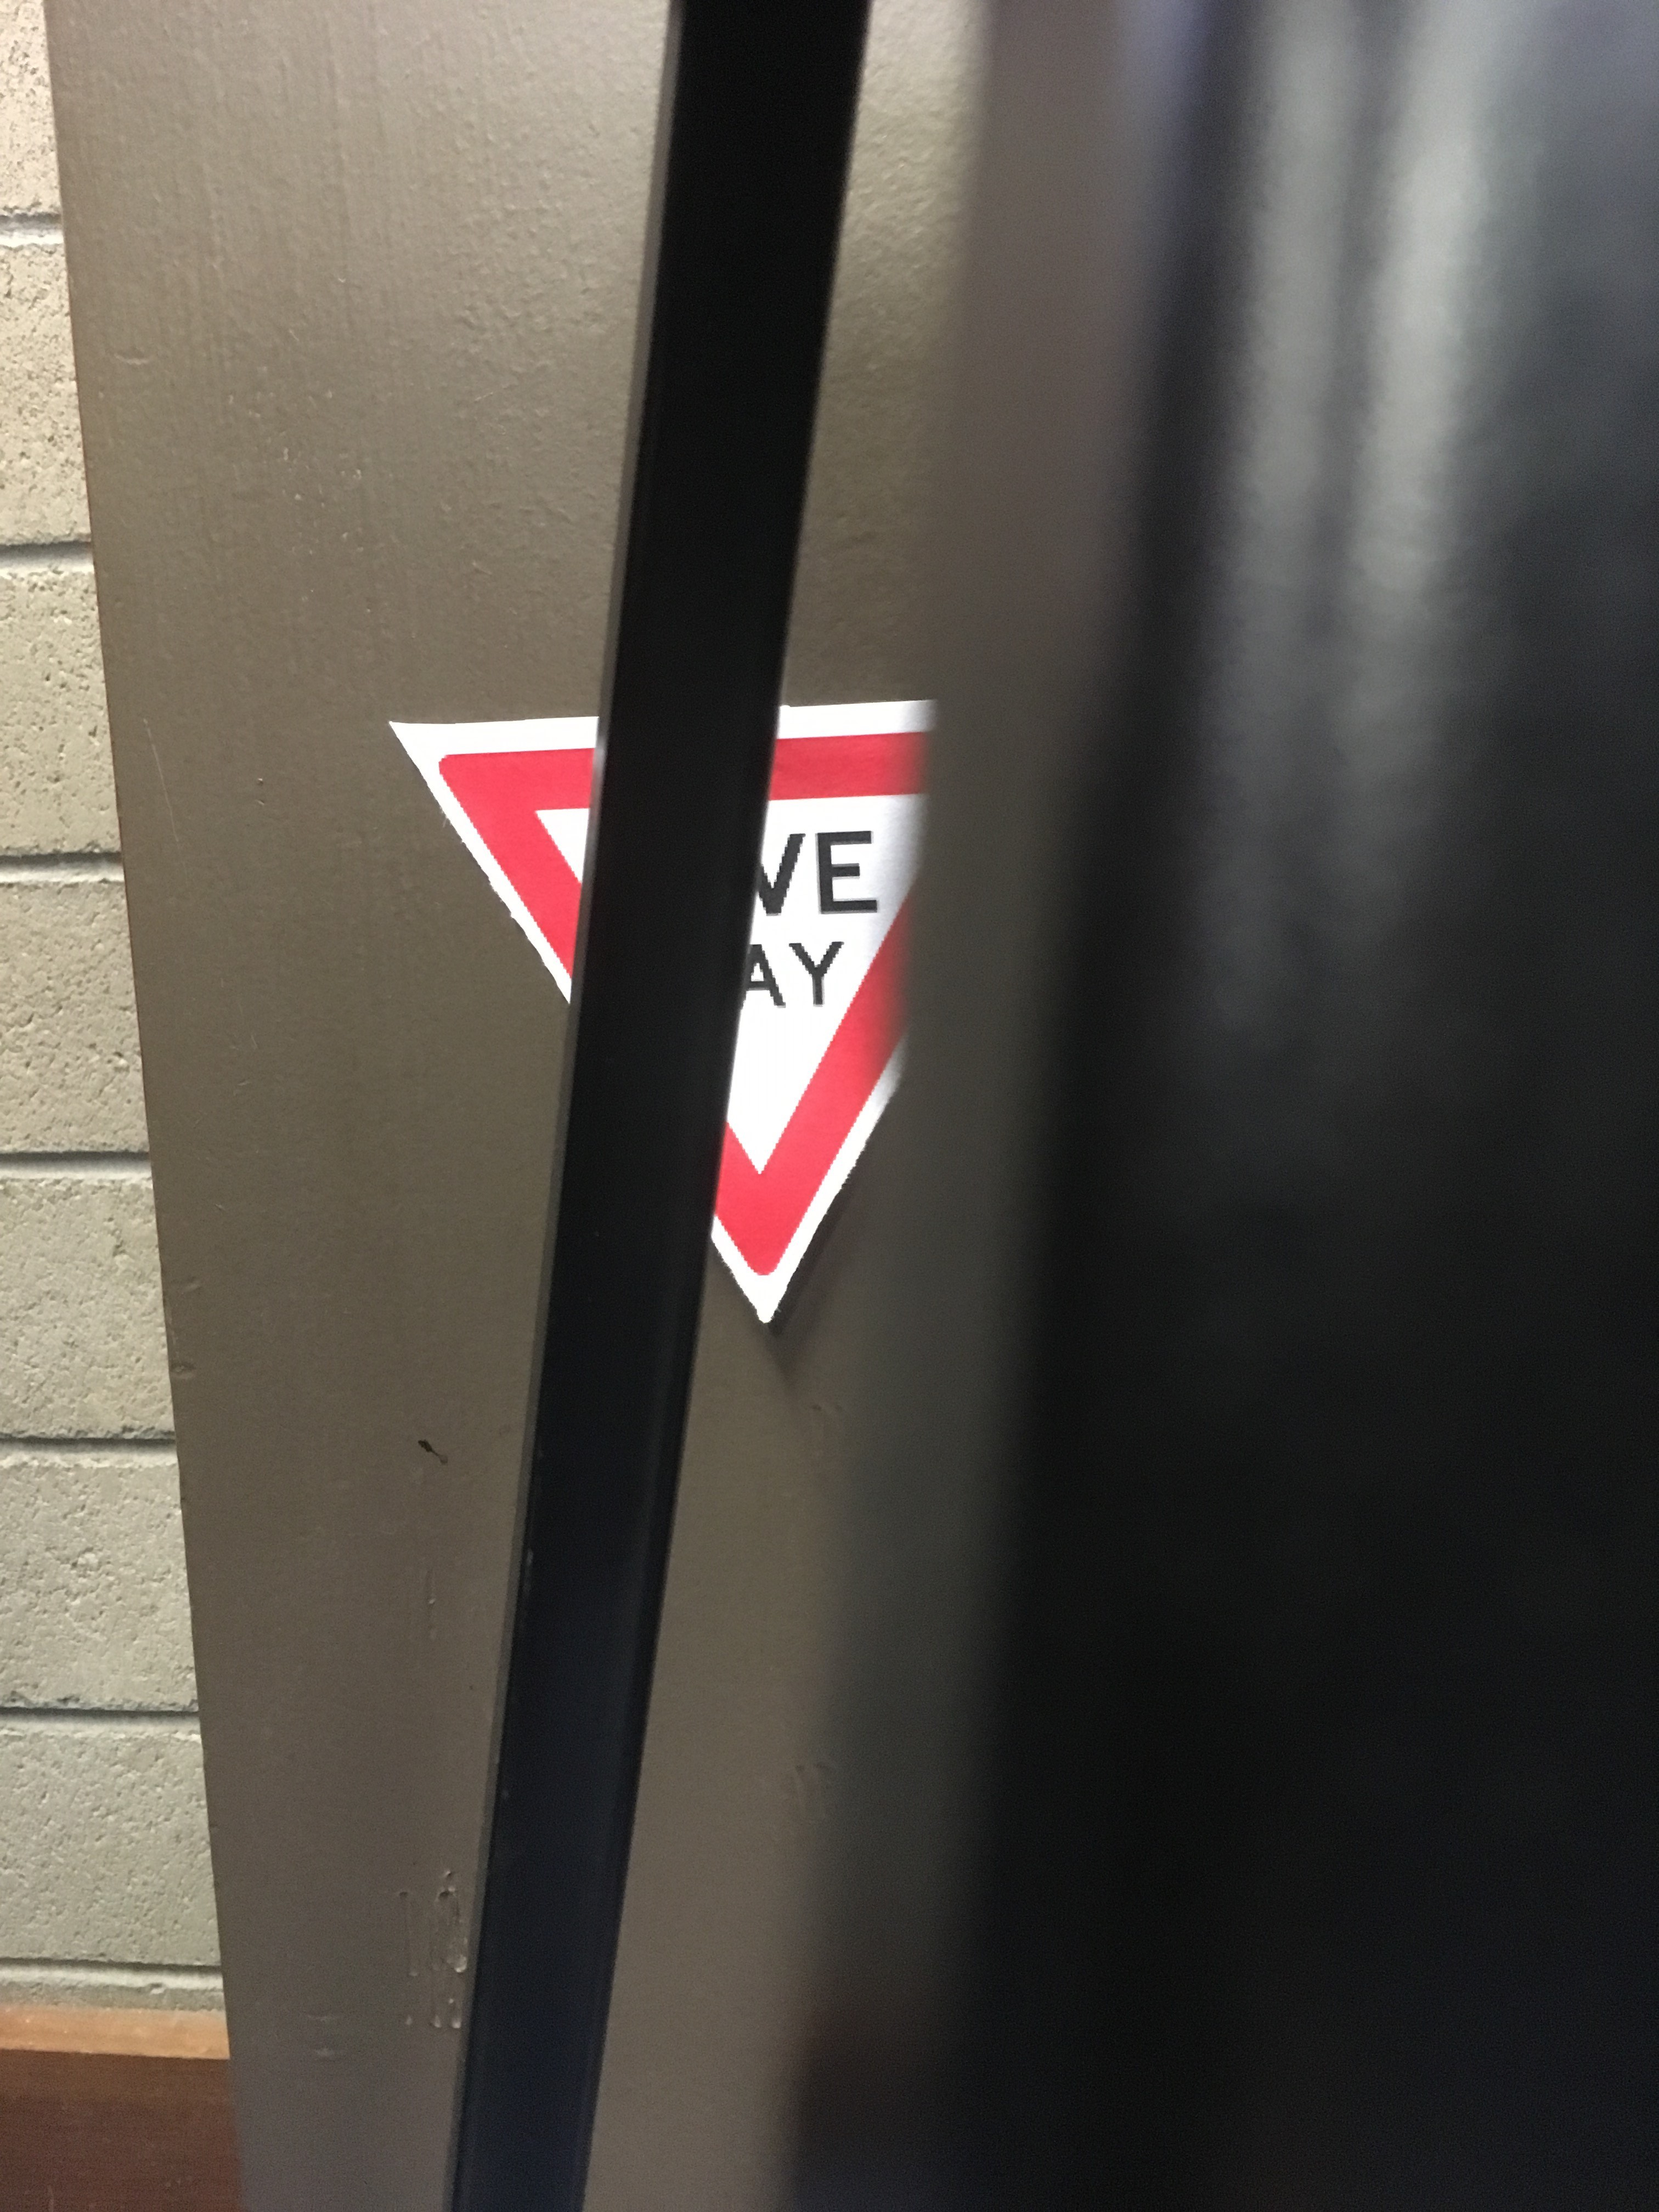giveway: (382, 679, 978, 1371), (410, 693, 962, 1092), (721, 691, 955, 1324)
